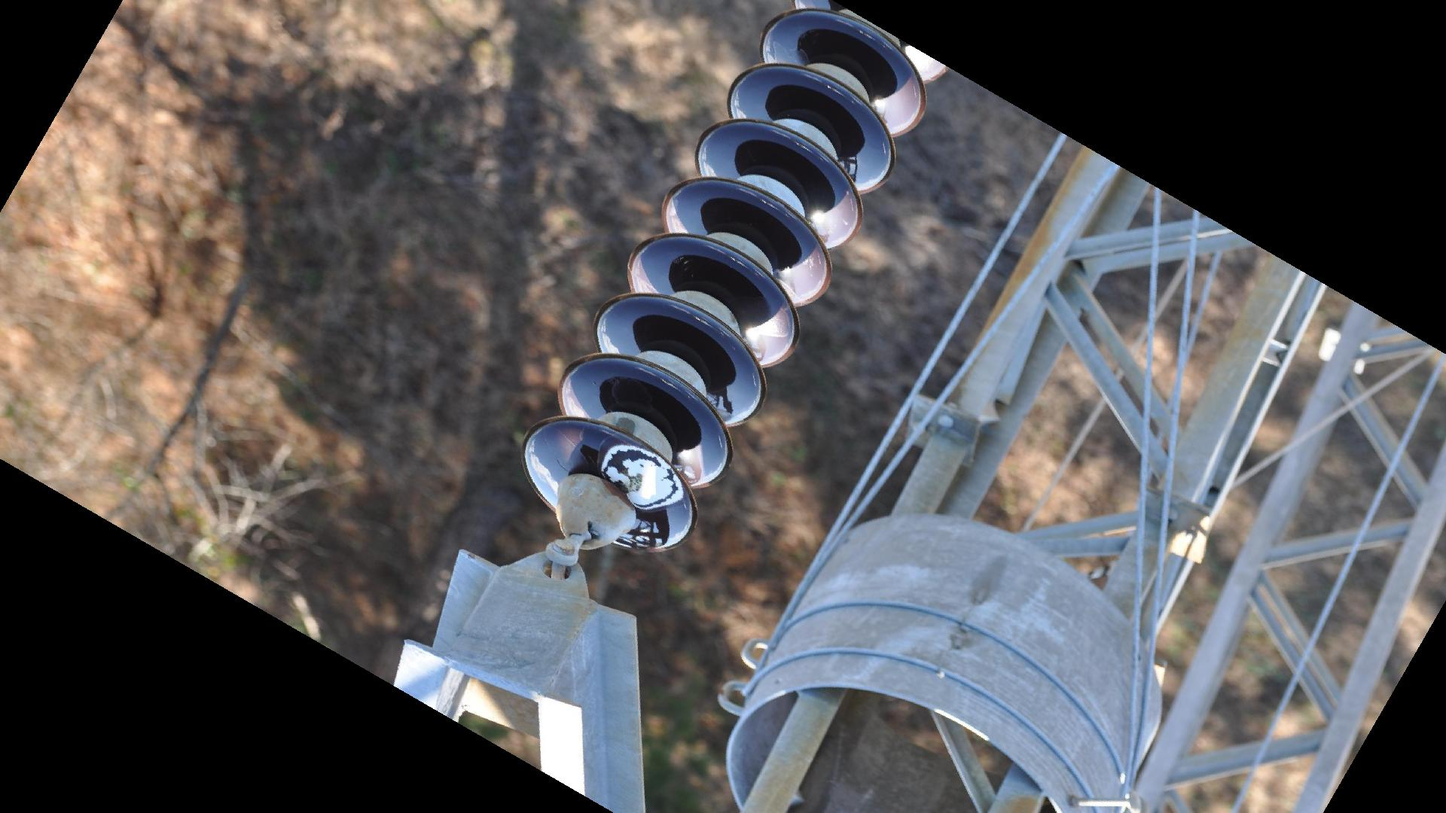insulator: (517, 1, 950, 559)
insulator_flashover: (596, 441, 686, 513)
